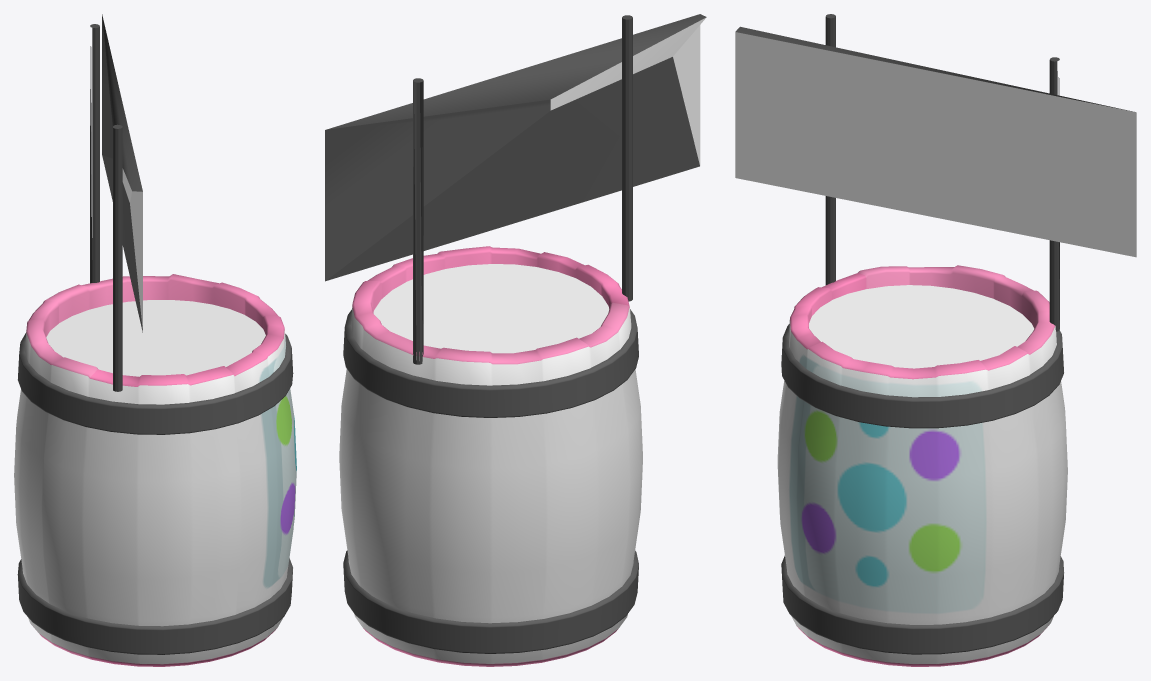
File: upgradeBarrel.fbx
3 views of the same model, side by side, from view 1: azimuth 30°, elevation 25°; view 2: azimuth 150°, elevation 25°; view 3: azimuth 270°, elevation 25° (orthographic). The views are drawn at different scales.
Visible parts, largest first — view 1: Cylinder.001, pCylinder2; view 2: Cylinder.001, pCylinder2; view 3: Cylinder.001, pCylinder2.
Boxes of the visible parts, x1,y1,x2,y2 form: Cylinder.001: [14, 274, 296, 666]; pCylinder2: [90, 14, 142, 391]; Cylinder.001: [339, 246, 642, 666]; pCylinder2: [325, 14, 706, 364]; Cylinder.001: [777, 265, 1067, 666]; pCylinder2: [735, 14, 1136, 331].
Size of the model in its own units: 102 by 215 by 140.
